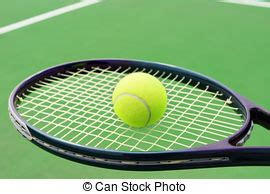tennis_ball: (111, 70, 167, 128)
